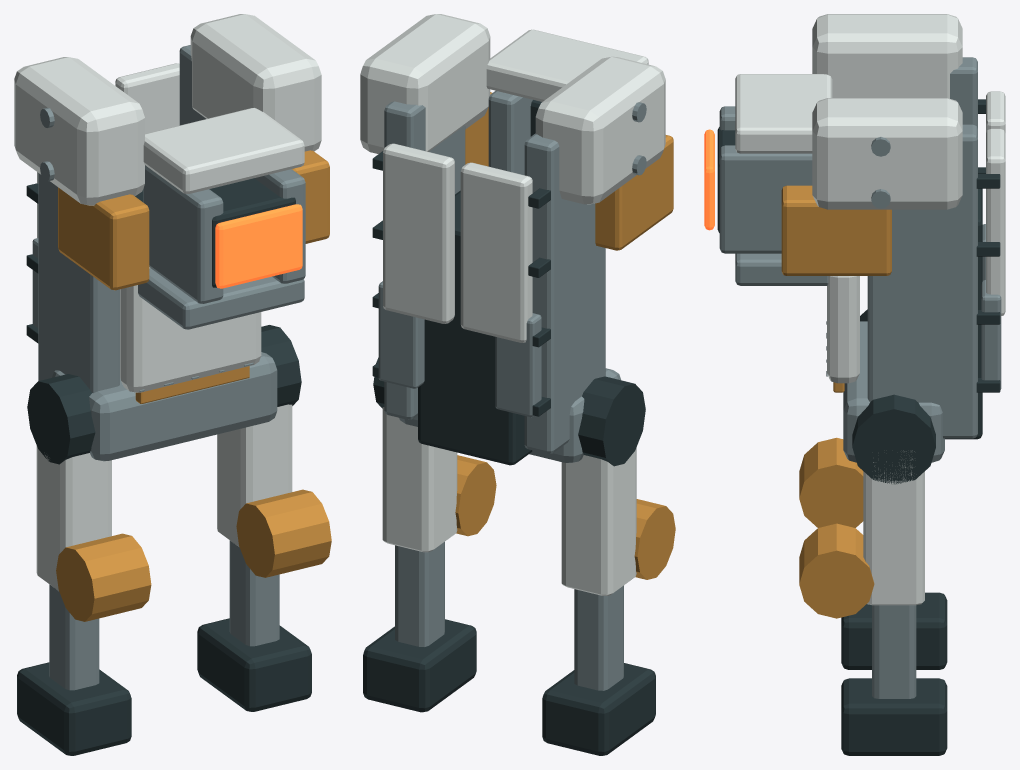
Rendered from build104-sentinel.glb.
3 renders of one model, left to right at view 1: azimuth 30°, elevation 25°; view 2: azimuth 150°, elevation 25°; view 3: azimuth 270°, elevation 25°, orthographic. The views are drawn at different scales.
Visible parts, largest first — view 1: LoadFrame_Service ivory enamel, LoadFrame_Exposed bearing steel, LoadFrame_Safety ochre, LoadFrame_Protected graphite recess, ShutterTop, FootRight, FootLeft, UpperLeft, UpperRight, KneeRight, KneeLeft, Optic (+3 smaller); view 2: LoadFrame_Service ivory enamel, LoadFrame_Exposed bearing steel, LoadFrame_Protected graphite recess, UpperLeft, UpperRight, FootLeft, FootRight, LoadFrame_Safety ochre, ShutterTop, LowerLeft, LowerRight, VaneLeft (+3 smaller); view 3: LoadFrame_Service ivory enamel, LoadFrame_Exposed bearing steel, LoadFrame_Protected graphite recess, LoadFrame_Safety ochre, UpperRight, FootRight, ShutterTop, KneeRight, KneeLeft, LowerRight, FootLeft, ShutterBottom (+2 smaller).
Part boxes in pixels (<box>): LoadFrame_Service ivory enamel: <box>14,14,321,392</box>; LoadFrame_Exposed bearing steel: <box>38,45,305,461</box>; LoadFrame_Safety ochre: <box>58,150,329,403</box>; LoadFrame_Protected graphite recess: <box>26,178,301,464</box>; ShutterTop: <box>143,108,304,193</box>; FootRight: <box>197,618,311,711</box>; FootLeft: <box>17,662,131,755</box>; UpperLeft: <box>36,446,111,590</box>; UpperRight: <box>217,404,292,546</box>; KneeRight: <box>236,489,331,577</box>; KneeLeft: <box>56,533,151,621</box>; Optic: <box>215,204,302,288</box>; LoadFrame_Service ivory enamel: <box>360,14,665,342</box>; LoadFrame_Exposed bearing steel: <box>384,91,646,462</box>; LoadFrame_Protected graphite recess: <box>372,100,645,466</box>; UpperLeft: <box>561,447,636,595</box>; UpperRight: <box>382,407,457,552</box>; FootLeft: <box>542,663,655,755</box>; FootRight: <box>363,619,476,712</box>; LoadFrame_Safety ochre: <box>465,92,673,250</box>; ShutterTop: <box>486,29,648,101</box>; LowerLeft: <box>574,585,623,690</box>; LowerRight: <box>395,542,444,646</box>; VaneLeft: <box>495,313,541,417</box>; LoadFrame_Service ivory enamel: <box>812,14,1005,383</box>; LoadFrame_Exposed bearing steel: <box>719,57,977,462</box>; LoadFrame_Protected graphite recess: <box>717,99,1000,484</box>; LoadFrame_Safety ochre: <box>781,185,891,392</box>; UpperRight: <box>863,450,924,605</box>; FootRight: <box>841,678,947,755</box>; ShutterTop: <box>735,74,832,153</box>; KneeRight: <box>799,523,874,618</box>; KneeLeft: <box>799,437,863,527</box>; LowerRight: <box>872,605,916,698</box>; FootLeft: <box>841,592,947,669</box>; ShutterBottom: <box>735,253,828,285</box>.
Bounding box in the file's own units: 0.644 × 1.59 × 0.6825.
